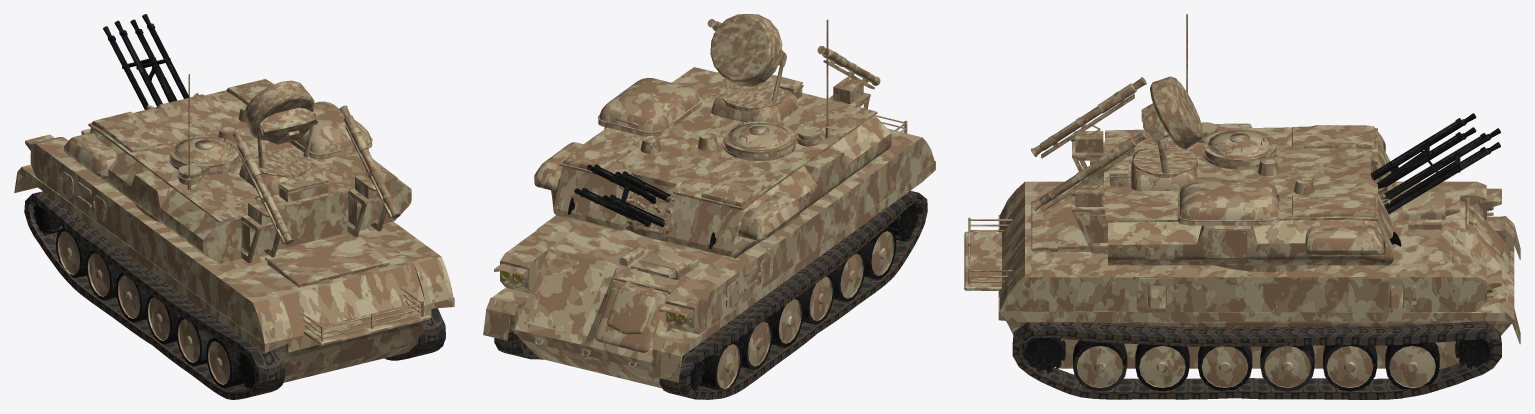
File: shilka2 .fbx
3 renders of one model, left to right at view 1: azimuth 30°, elevation 25°; view 2: azimuth 150°, elevation 25°; view 3: azimuth 270°, elevation 25°, orthographic. The views are drawn at different scales.
Parts seen in each view (by area): view 1: tank base, turret, tracks, radartop, muzle, radarbot, wheel1, wheel2, wheel5, wheel6, wheel4, wheel3 (+2 smaller); view 2: tank base, turret, tracks, radartop, muzle, radarbot, wheel6, wheel1, wheel5, wheel4, wheel2, wheel3 (+1 smaller); view 3: tank base, turret, tracks, muzle, radartop, wheel1, wheel5, wheel2, wheel6, wheel4, wheel3, radarbot (+2 smaller).
Part boxes in pixels (x1,y1,x2,y2): tank base: (14, 128, 454, 382); turret: (64, 74, 411, 263); tracks: (24, 191, 445, 399); radartop: (244, 80, 316, 144); muzle: (103, 14, 198, 109); radarbot: (254, 113, 318, 178); wheel1: (206, 337, 244, 388); wheel2: (176, 316, 213, 366); wheel5: (86, 250, 121, 300); wheel6: (56, 228, 91, 278); wheel4: (116, 272, 150, 322); wheel3: (146, 295, 181, 344); tank base: (483, 115, 935, 388); turret: (534, 19, 891, 258); tracks: (494, 190, 927, 399); radartop: (710, 14, 784, 86); muzle: (574, 164, 675, 237); radarbot: (721, 53, 786, 111); wheel6: (698, 341, 741, 390); wheel1: (859, 227, 896, 279); wheel5: (735, 318, 772, 370); wheel4: (766, 296, 803, 347); wheel2: (830, 251, 865, 302); wheel3: (798, 274, 834, 324); tank base: (964, 181, 1520, 368); turret: (1030, 14, 1401, 272); tracks: (1012, 321, 1501, 399); muzle: (1371, 113, 1500, 214); radartop: (1141, 76, 1203, 149); wheel1: (1073, 340, 1127, 391); wheel5: (1323, 345, 1377, 391); wheel2: (1135, 344, 1189, 391); wheel6: (1385, 342, 1439, 389); wheel4: (1260, 345, 1314, 391); wheel3: (1198, 346, 1252, 390); radarbot: (1133, 128, 1197, 178).
Size of the model in its own units: 2.43 by 4.9 by 2.89.
